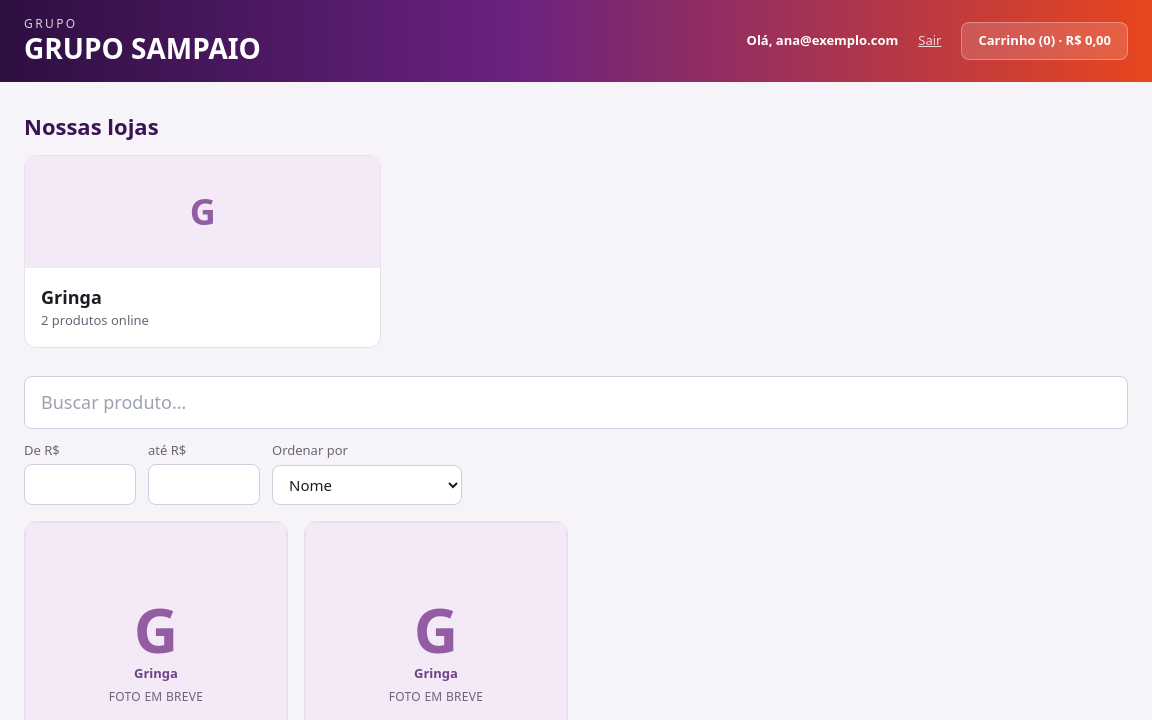
Test: GAP-PRD-193 — o carrinho mora na conta › o que saiu da vitrine: a tela diz que o item saiu do carrinho
Click the button "Carrinho (0) · R$ 0,00".
click(1045, 41)  # box x1=961 y1=22 x2=1128 y2=60
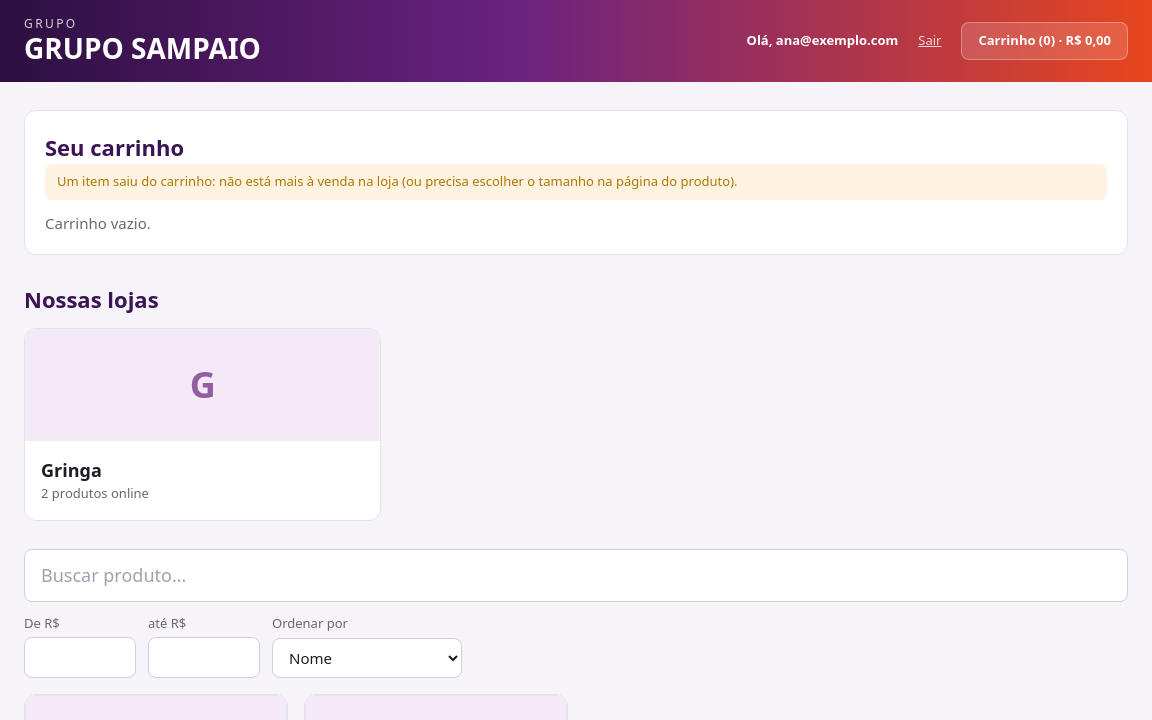
Result: the text "Um item saiu do carrinho" is shown at x1=57 y1=172 x2=738 y2=190
